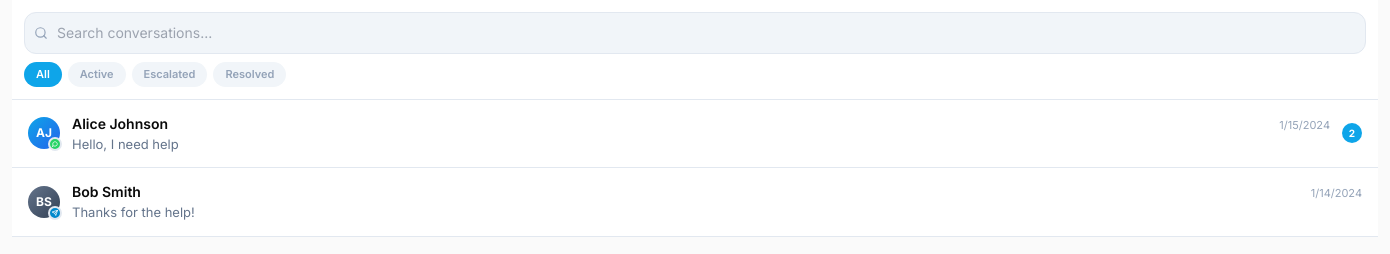
Test: ChatList › shows empty state message when filtered results are empty
This screenshot has width=1390, height=254.
Step 1. Type "zzzznotfound" into the field with placeholder "Search conversations..." → (695, 33), box [24,12,1366,54]
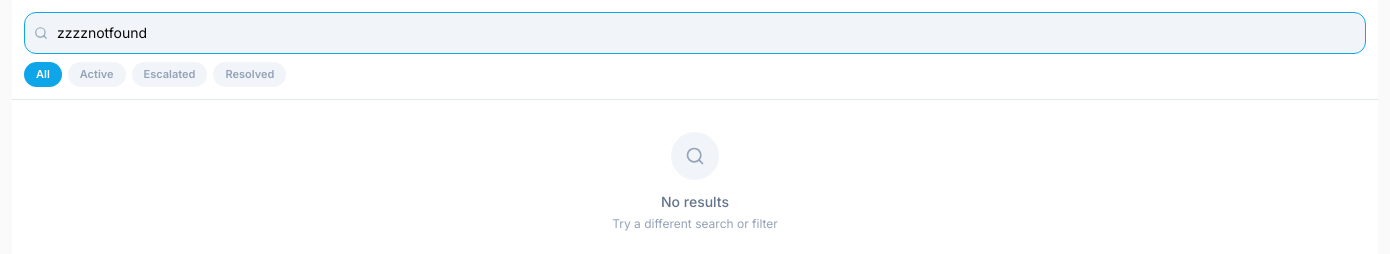
expect the text "No results" is shown: met, box [661,192,729,210]
